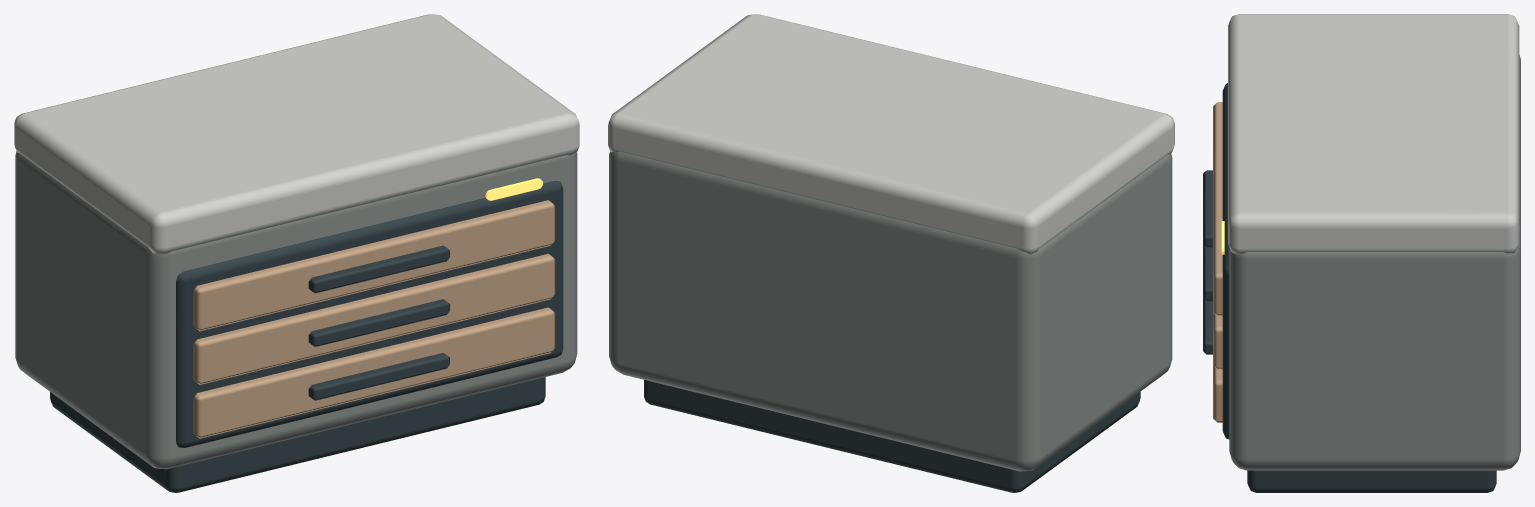
Rendered from kit_hw_storage_v1.glb.
The picture shows the model from 3 angles, left to right: view 1: azimuth 30°, elevation 25°; view 2: azimuth 150°, elevation 25°; view 3: azimuth 270°, elevation 25°; orthographic projection.
Parts seen in each view (by area): view 1: body, provider, status_led; view 2: body, provider; view 3: body, provider.
Part boxes in pixels (bbox=[...]): body: bbox=[15, 151, 577, 492]; provider: bbox=[14, 14, 579, 254]; status_led: bbox=[485, 178, 543, 200]; body: bbox=[609, 151, 1172, 492]; provider: bbox=[608, 14, 1174, 254]; body: bbox=[1203, 54, 1520, 492]; provider: bbox=[1228, 14, 1519, 254].
Bounding box in the file's own units: 1.18 × 0.77 × 0.76.
